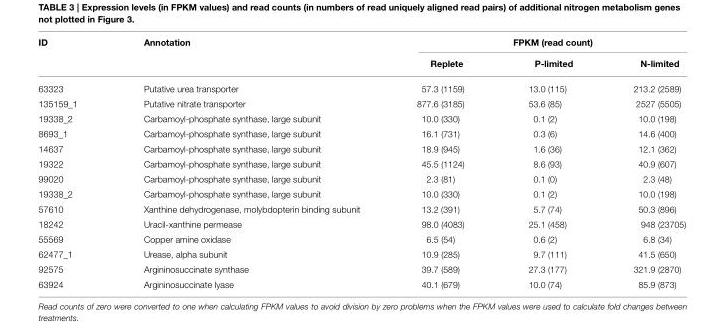table: (37, 37, 685, 288)
table column: (109, 37, 387, 288), (387, 37, 495, 288), (495, 37, 602, 288), (602, 37, 685, 288), (37, 37, 109, 288)
table column header: (37, 37, 685, 76)
table row: (37, 52, 685, 76), (37, 76, 685, 96), (37, 37, 685, 52), (37, 96, 685, 111), (37, 111, 685, 126), (37, 126, 685, 141), (37, 141, 685, 156), (37, 156, 685, 171), (37, 171, 685, 186), (37, 186, 685, 201), (37, 201, 685, 216), (37, 216, 685, 231), (37, 231, 685, 246), (37, 246, 685, 261), (37, 261, 685, 276), (37, 276, 685, 288)
table spanning cell: (109, 37, 387, 76), (387, 37, 685, 52), (37, 37, 109, 76)
